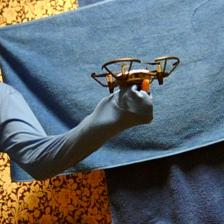drone: (90, 53, 181, 96)
